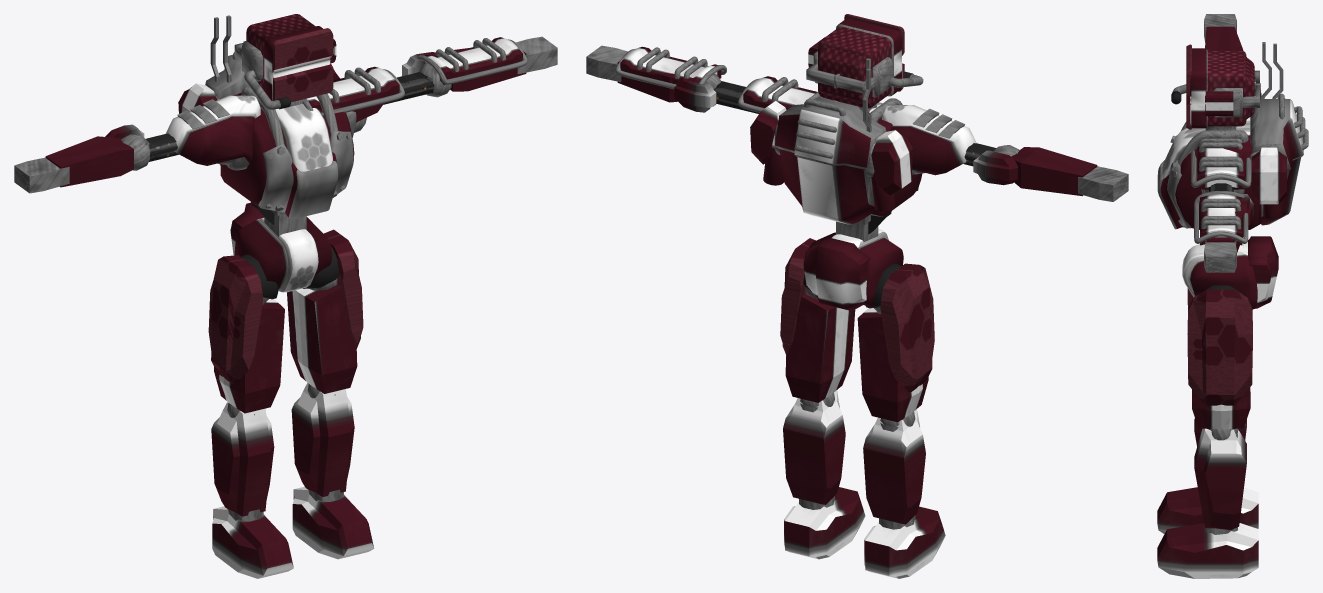
The model's file is Robot 8.fbx.
3 renders of one model, left to right at view 1: azimuth 30°, elevation 25°; view 2: azimuth 150°, elevation 25°; view 3: azimuth 270°, elevation 25°, orthographic. The views are drawn at different scales.
Parts seen in each view (by area): view 1: Cube.019, Icosphere, Icosphere.001, Cube.005, Cube.020, Icosphere.003, Icosphere.002, Icosphere.004, Icosphere.007, Cube.012, Cube.023, Icosphere.006 (+5 smaller); view 2: Cube.019, Icosphere, Icosphere.001, Cube.005, Cube.020, Icosphere.003, Icosphere.002, Icosphere.007, Icosphere.004, Icosphere.006, Cube.023, Cube.012 (+6 smaller); view 3: Icosphere.001, Cube.019, Cube.005, Cube.012, Icosphere.002, Cube.020, Icosphere.007, Icosphere.005, Cube.023, Cylinder.003, Cube.031, Icosphere.006 (+2 smaller).
Boxes of the visible parts, box(x1,y1,x2,y2) form: Cube.019: box(205, 15, 356, 219); Icosphere: box(208, 255, 284, 413); Icosphere.001: box(287, 229, 363, 393); Cube.005: box(234, 14, 336, 109); Cube.020: box(230, 202, 339, 299); Icosphere.003: box(211, 402, 274, 521); Icosphere.002: box(291, 383, 354, 501); Icosphere.004: box(146, 95, 260, 165); Icosphere.007: box(402, 37, 527, 97); Cube.012: box(292, 486, 374, 559); Cube.023: box(212, 506, 293, 578); Icosphere.006: box(45, 124, 150, 187); Cube.019: box(774, 58, 922, 224); Icosphere: box(857, 263, 934, 422); Icosphere.001: box(780, 238, 855, 402); Cube.005: box(806, 14, 923, 108); Cube.020: box(803, 229, 903, 310); Icosphere.003: box(863, 409, 925, 529); Icosphere.002: box(783, 390, 845, 509); Icosphere.007: box(615, 46, 726, 112); Icosphere.004: box(882, 105, 996, 175); Icosphere.006: box(973, 145, 1097, 196); Cube.023: box(864, 506, 945, 578); Cube.012: box(784, 487, 865, 559); Icosphere.001: box(1187, 289, 1252, 428); Cube.019: box(1157, 42, 1308, 229); Cube.005: box(1171, 44, 1260, 129); Cube.012: box(1157, 523, 1258, 578); Icosphere.002: box(1194, 428, 1246, 534); Cube.020: box(1182, 236, 1278, 309); Icosphere.007: box(1194, 191, 1253, 252); Icosphere.005: box(1191, 130, 1251, 192); Cube.023: box(1157, 487, 1258, 533); Cylinder.003: box(1251, 147, 1286, 218); Cube.031: box(1204, 240, 1236, 272); Icosphere.006: box(1205, 26, 1246, 57).
Bounding box in the file's own units: 1383 × 1313 × 365.
